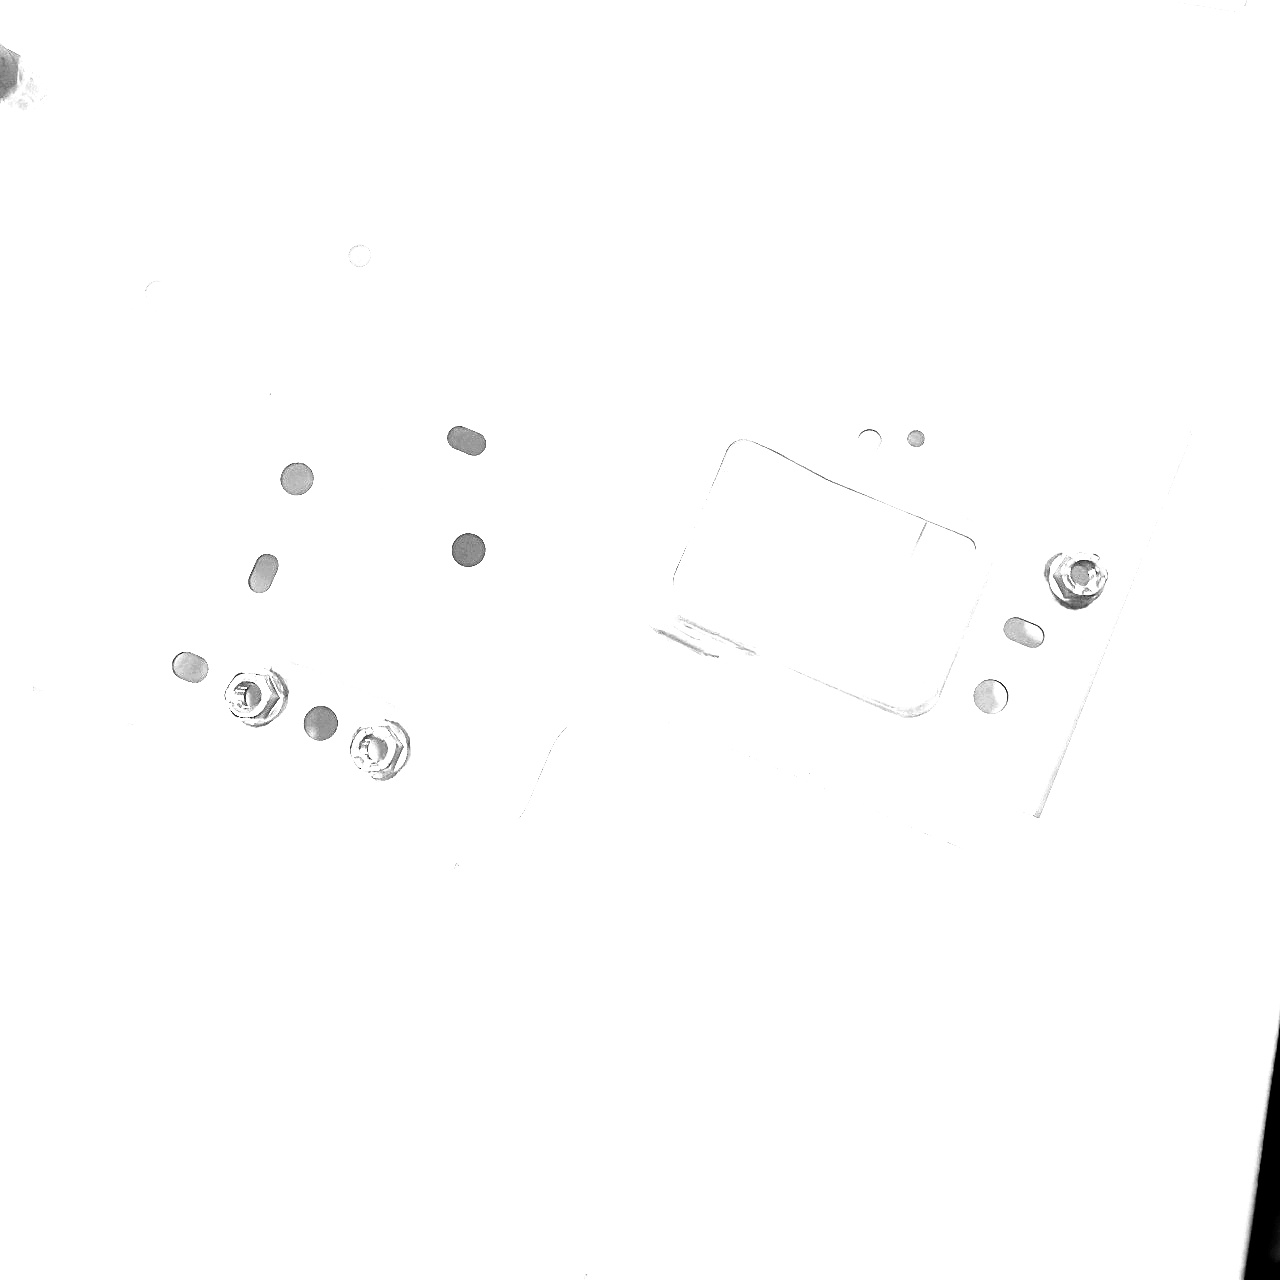dog: (216, 660, 292, 736), (342, 712, 418, 784), (1040, 544, 1108, 617)
